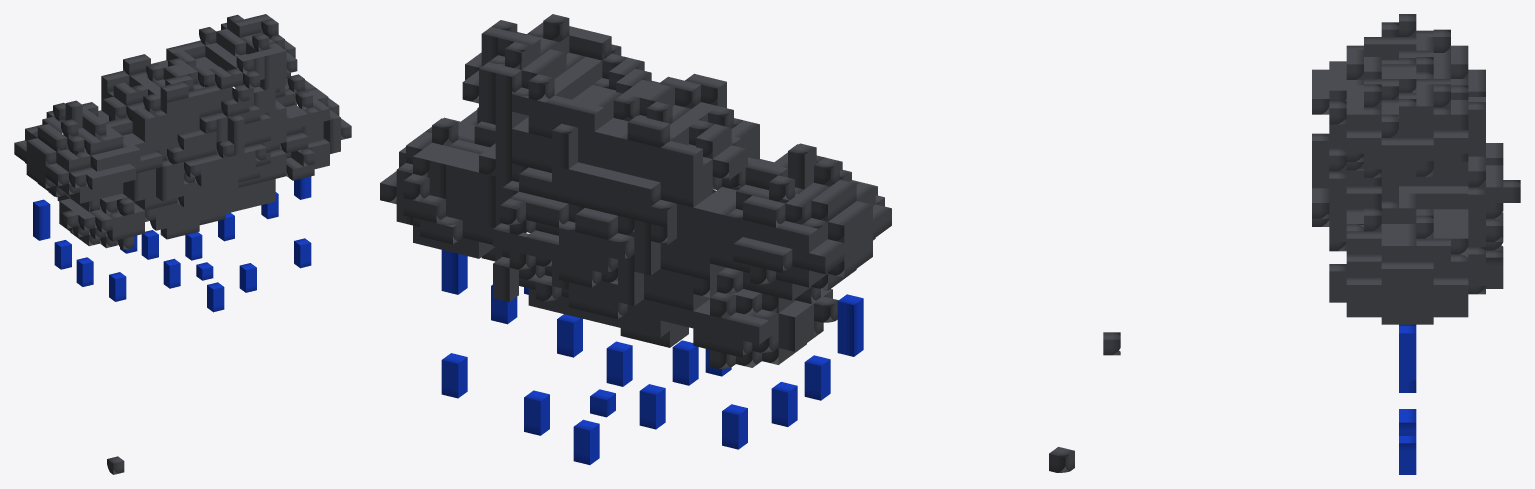
Rendered from rain.obj.
3 views of the same model, side by side, from view 1: azimuth 30°, elevation 25°; view 2: azimuth 150°, elevation 25°; view 3: azimuth 270°, elevation 25° (orthographic). The views are drawn at different scales.
Visible parts, largest first — view 1: Model; view 2: Model; view 3: Model.
Boxes of the visible parts, <box> form: Model: <box>14,14,351,474</box>; Model: <box>380,14,1074,472</box>; Model: <box>1103,14,1520,474</box>.
Bounding box in the file's own units: 30 × 27 × 24.
Materials: 1 (1 with a texture image).
